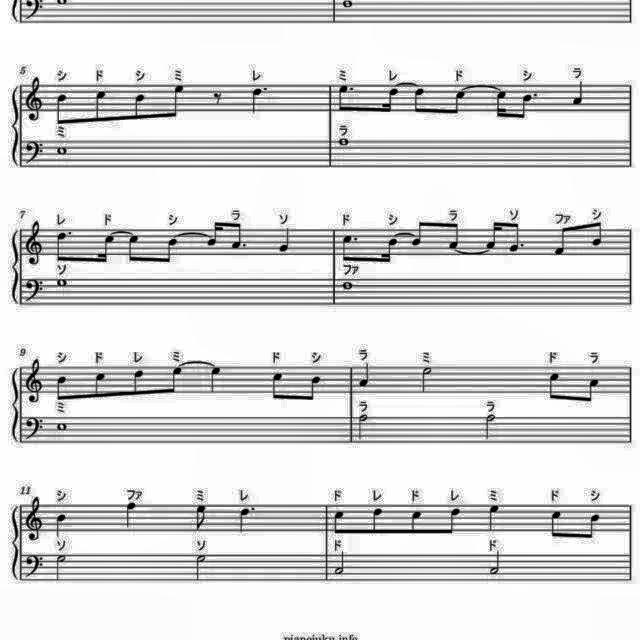Bass-clef: (24, 413, 48, 443), (24, 275, 48, 305), (24, 551, 48, 579), (24, 138, 48, 166)
Eighth-note: (164, 83, 188, 125), (90, 86, 112, 126), (516, 88, 540, 124), (52, 90, 72, 130), (53, 228, 75, 264), (164, 362, 186, 398), (160, 232, 182, 268), (505, 220, 527, 256), (580, 374, 604, 406), (339, 230, 361, 264), (443, 505, 465, 539), (301, 371, 323, 404), (268, 367, 288, 403), (546, 367, 566, 403), (90, 368, 110, 404), (446, 88, 469, 119), (335, 84, 357, 116), (228, 220, 250, 252), (582, 510, 604, 542), (125, 230, 144, 266), (130, 89, 150, 123), (548, 506, 568, 540), (368, 504, 388, 538), (552, 225, 572, 259), (410, 85, 430, 118), (128, 368, 148, 400), (190, 502, 210, 534), (444, 221, 464, 251), (407, 507, 427, 537), (584, 219, 604, 249), (409, 220, 429, 250), (53, 372, 71, 404), (331, 506, 349, 536)
Eighth-rest: (210, 88, 226, 109)
Full-note: (340, 277, 356, 295), (54, 274, 70, 290), (54, 142, 70, 158), (52, 420, 68, 434), (338, 134, 350, 150)
Half-note: (333, 548, 351, 578), (355, 413, 373, 443), (483, 412, 501, 442), (418, 363, 436, 393), (192, 552, 208, 584), (54, 552, 70, 584), (487, 548, 505, 576)
Quarter-dot: (246, 84, 270, 116), (237, 504, 260, 534)
Quarter-note: (484, 501, 504, 533), (122, 501, 142, 532), (355, 359, 375, 389), (276, 226, 296, 256), (206, 365, 226, 395), (568, 77, 588, 106), (54, 514, 72, 542)
Sixteenth-note: (92, 228, 116, 266), (376, 235, 402, 268), (378, 85, 402, 118), (490, 86, 510, 122), (203, 218, 224, 250), (485, 217, 503, 251)
Treble-clef: (24, 357, 48, 407), (24, 76, 48, 124), (24, 220, 48, 268), (24, 496, 48, 544)
